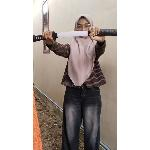Pedang: (33, 26, 117, 44)
